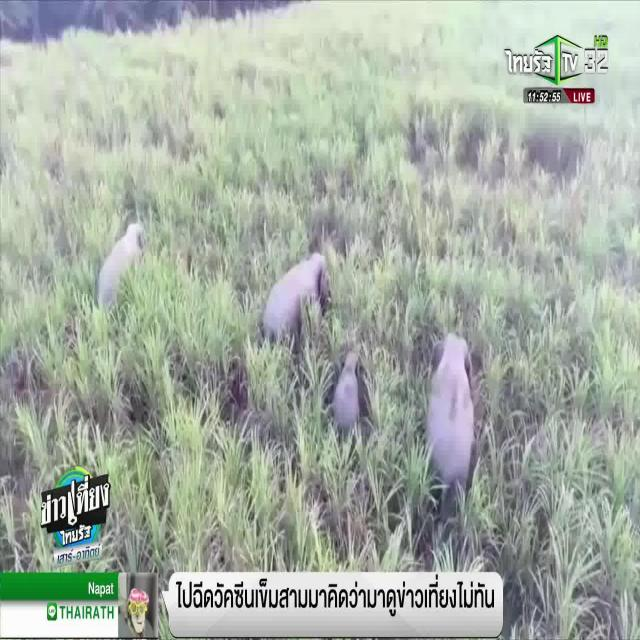Elephant: (431, 342, 474, 464), (270, 253, 333, 325), (98, 218, 150, 286), (341, 351, 365, 418)
